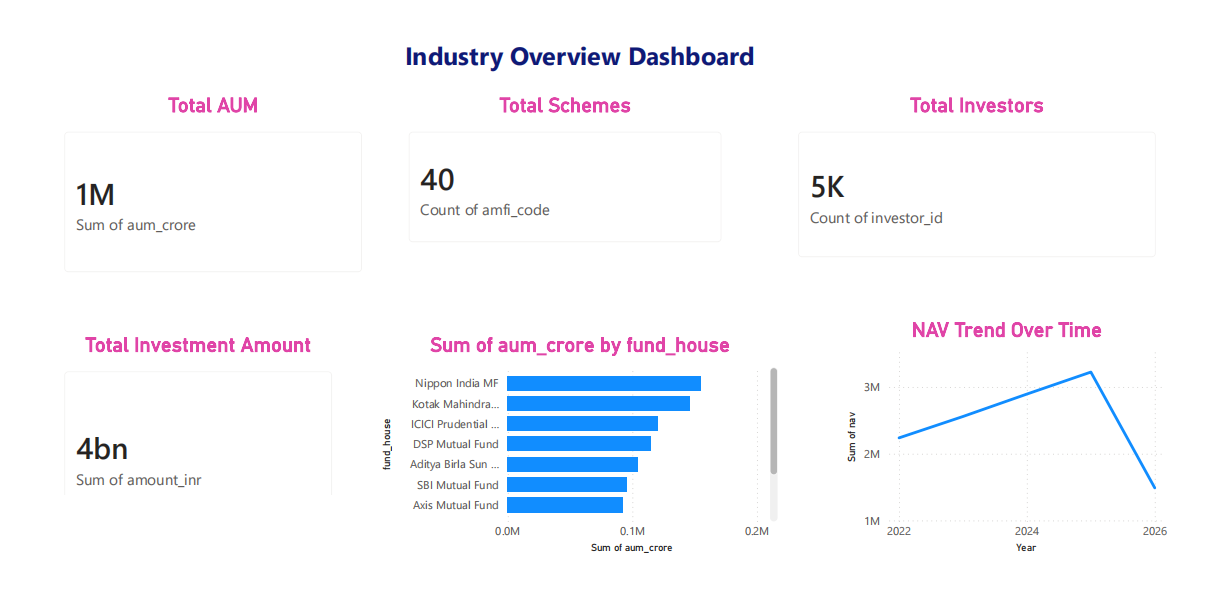

The dashboard page shown, as its layout file describes it:
{"tool":"powerbi","page":{"name":"Industry Overview","canvas":[1280,720],"ordinal":0},"visuals":[{"type":"cardVisual","title":"Total AUM","fields":{"Data":["Sum(07_scheme_performance_clean.aum_crore)"]},"box":[32,80,352,208],"z":0},{"type":"cardVisual","title":"Total Schemes","fields":{"Data":["Count(02_nav_history_clean.amfi_code)"]},"box":[400,80,368,176],"z":1000},{"type":"cardVisual","title":"Total Investors","fields":{"Data":["Count(08_investor_transactions_clean.investor_id)"]},"box":[816,80,416,192],"z":2000},{"type":"cardVisual","title":"Total Investment Amount","fields":{"Data":["Sum(08_investor_transactions_clean.amount_inr)"]},"box":[32,336,320,240],"z":3000},{"type":"clusteredBarChart","fields":{"Category":["07_scheme_performance_clean.fund_house"],"Y":["Sum(07_scheme_performance_clean.aum_crore)"]},"box":[384,336,432,240],"z":4000},{"type":"lineChart","title":"NAV Trend Over Time","fields":{"Category":["02_nav_history_clean.date.Variation.Date Hierarchy.Year","02_nav_history_clean.date.Variation.Date Hierarchy.Quarter","02_nav_history_clean.date.Variation.Date Hierarchy.Month","02_nav_history_clean.date.Variation.Date Hierarchy.Day"],"Y":["Sum(02_nav_history_clean.nav)"]},"box":[880,320,352,256],"z":5000},{"type":"textbox","box":[16,510,320,192],"z":6000},{"type":"textbox","box":[384,16,432,48],"z":7000}]}

Visuals, with their boxes on the page's 1280x720 design canvas (x1, y1, x2, y2). These are canvas units, not pixel positions in the 1228x598 screenshot, which may show the page scaled, cropped or inside an application window:
"Total AUM" cardVisual: [32, 80, 384, 288]
"Total Schemes" cardVisual: [400, 80, 768, 256]
"Total Investors" cardVisual: [816, 80, 1232, 272]
"Total Investment Amount" cardVisual: [32, 336, 352, 576]
clusteredBarChart - 07_scheme_performance_clean.fund_house x Sum(07_scheme_performance_clean.aum_crore): [384, 336, 816, 576]
"NAV Trend Over Time" lineChart: [880, 320, 1232, 576]
textbox: [16, 510, 336, 702]
textbox: [384, 16, 816, 64]
